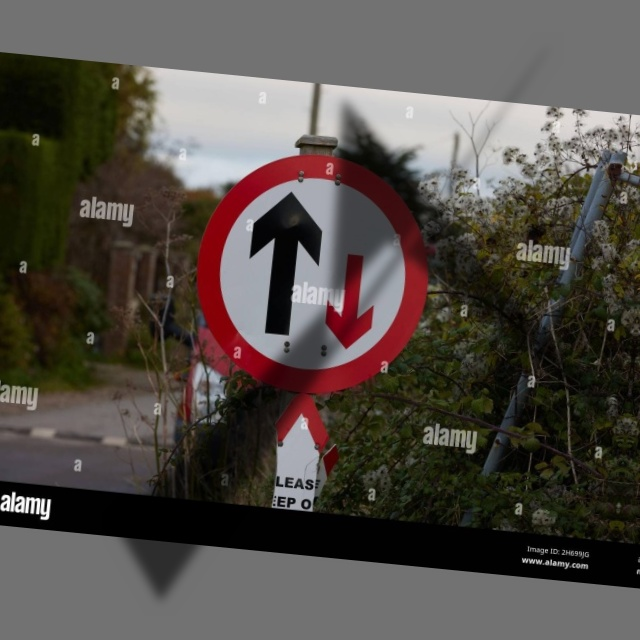Priority_for_Oncoming_Traffic: (186, 143, 440, 404)
